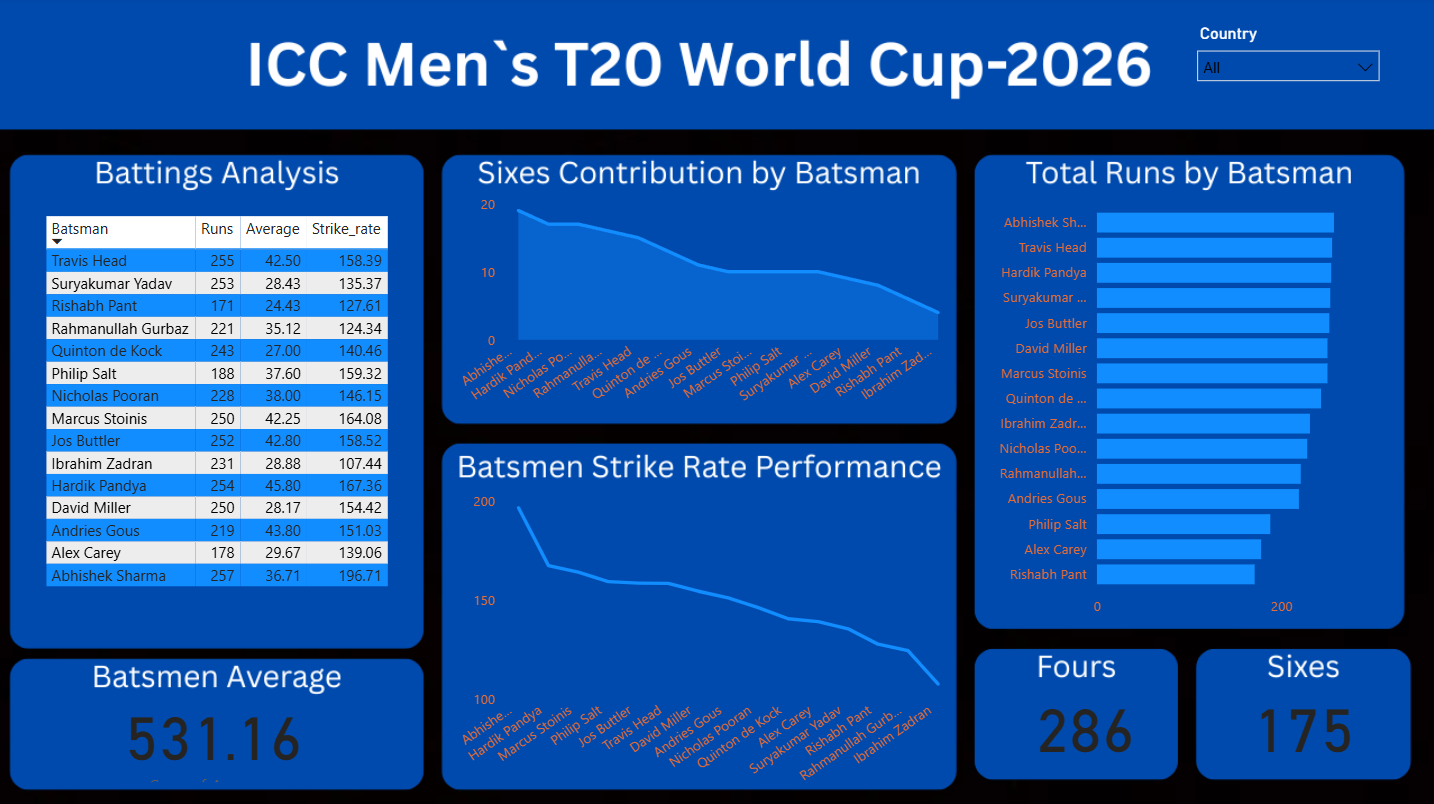

This screenshot's page, from the dashboard's own definition file:
{"tool":"powerbi","page":{"name":"Page 1","canvas":[1280,720],"ordinal":0},"visuals":[{"type":"tableEx","fields":{"Values":["batting_stats.Batsman","Sum(batting_stats.Runs)","Sum(batting_stats.Average)","Sum(batting_stats.Strike_rate)"]},"box":[37,190.7,499.5,365],"z":0},{"type":"barChart","fields":{"Category":["batting_stats.Batsman"],"Y":["Sum(batting_stats.Runs)"]},"box":[874.1,170.2,366.4,391.1],"z":1000},{"type":"lineChart","fields":{"Category":["batting_stats.Batsman"],"Y":["Sum(batting_stats.Strike_rate)"]},"box":[403.4,435,450.1,275.8],"z":2000},{"type":"stackedAreaChart","fields":{"Category":["batting_stats.Batsman"],"Y":["Sum(batting_stats.Sixes)"]},"box":[391.9,169.8,450,203.5],"z":3000},{"type":"card","fields":{"Values":["Sum(batting_stats.Fours)"]},"box":[915.3,625.7,107,63.1],"z":4000},{"type":"slicer","fields":{"Values":["batting_stats.Country"]},"box":[1058,19.2,182.5,76.8],"z":5000},{"type":"card","fields":{"Values":["Sum(batting_stats.Average)"]},"box":[53.5,625.7,275.8,78.2],"z":6000},{"type":"card","fields":{"Values":["Sum(batting_stats.Sixes)"]},"box":[1110.1,625.7,107,63.1],"z":7000}]}

Visuals, with their boxes in screenshot pixels (x1, y1, x2, y2), scaled from the page's 1280x720 canvas onto the 1434x804 screenshot:
tableEx - batting_stats.Batsman x Sum(batting_stats.Runs): l=41, t=213, r=601, b=621
barChart - batting_stats.Batsman x Sum(batting_stats.Runs): l=979, t=190, r=1390, b=627
lineChart - batting_stats.Batsman x Sum(batting_stats.Strike_rate): l=452, t=486, r=956, b=794
stackedAreaChart - batting_stats.Batsman x Sum(batting_stats.Sixes): l=439, t=190, r=943, b=417
card - Sum(batting_stats.Fours): l=1025, t=699, r=1145, b=769
slicer - batting_stats.Country: l=1185, t=21, r=1390, b=107
card - Sum(batting_stats.Average): l=60, t=699, r=369, b=786
card - Sum(batting_stats.Sixes): l=1244, t=699, r=1364, b=769
